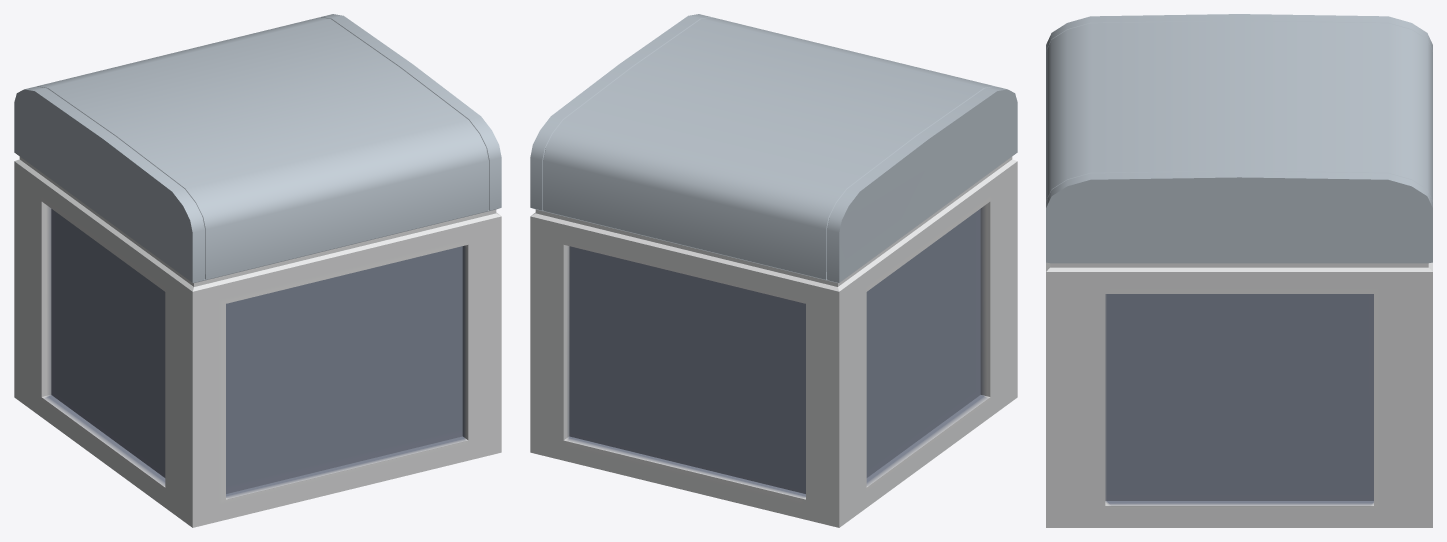
File: Chair0.fbx
3 renders of one model, left to right at view 1: azimuth 30°, elevation 25°; view 2: azimuth 150°, elevation 25°; view 3: azimuth 270°, elevation 25°, orthographic. The views are drawn at different scales.
Parts seen in each view (by area): view 1: SM_Chair_Cube; view 2: SM_Chair_Cube; view 3: SM_Chair_Cube.
Part boxes in pixels (x1=…): SM_Chair_Cube: x1=14, y1=14, x2=501, y2=527; SM_Chair_Cube: x1=530, y1=14, x2=1017, y2=527; SM_Chair_Cube: x1=1046, y1=14, x2=1432, y2=527.
Size of the model in its own units: 64 by 64 by 64.
